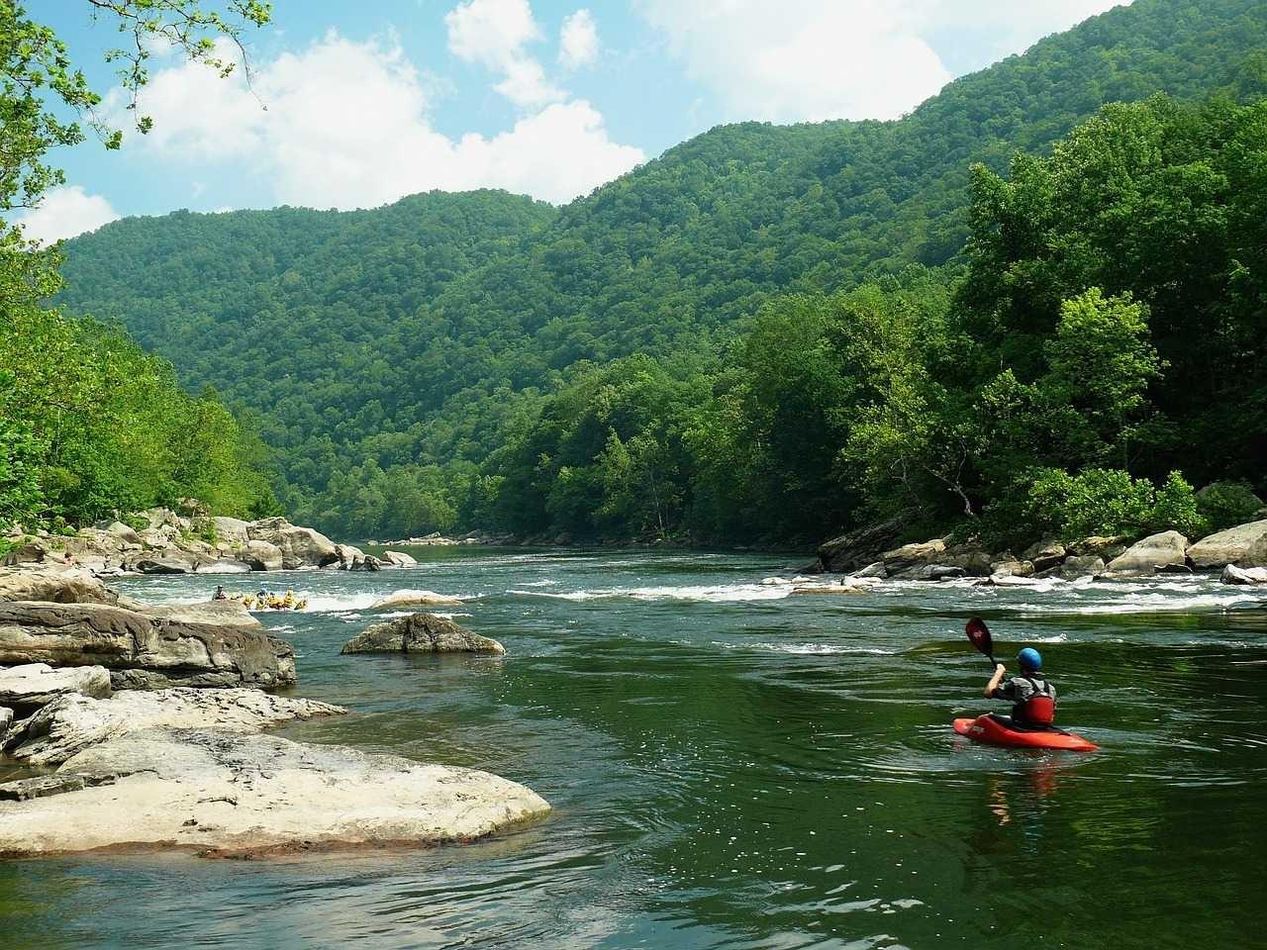kayak: (951, 713, 1101, 752)
